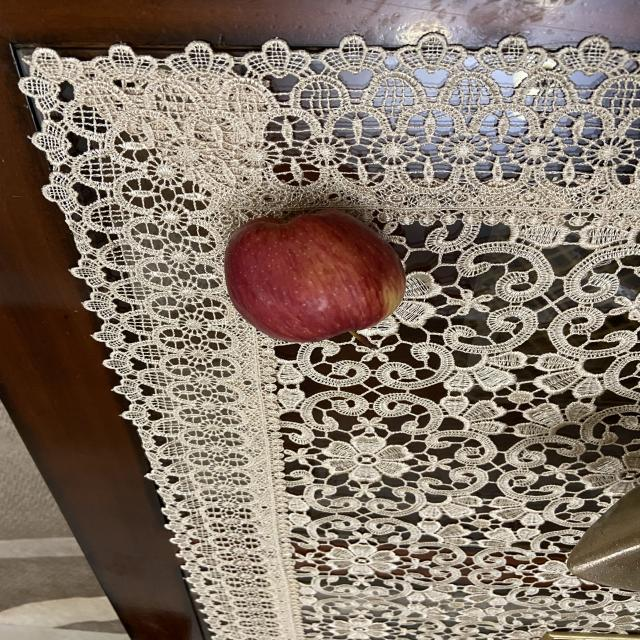apple: (221, 202, 415, 353)
